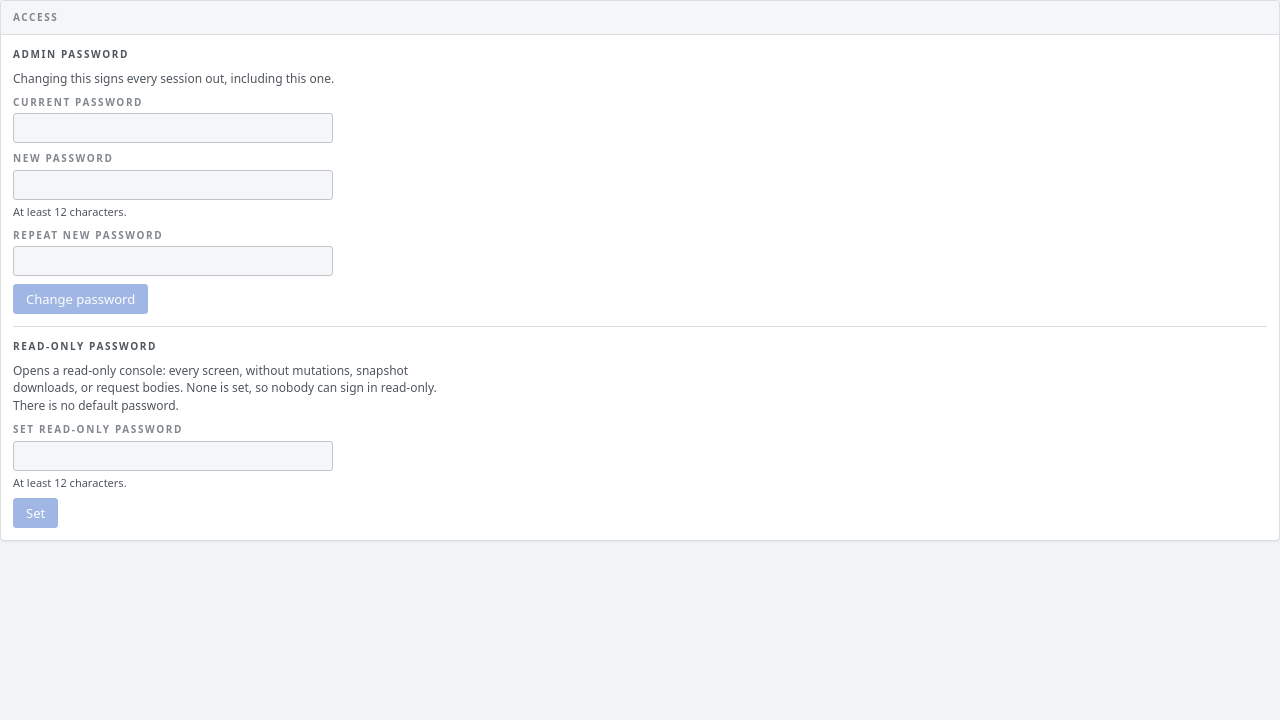
Scenario: admin password › a password too short to be accepted is refused before it is sent
Type "hunter2hunter2" into the password field labelled "Current password".
click(173, 128); type("hunter2hunter2")  # box [13,113,333,143]
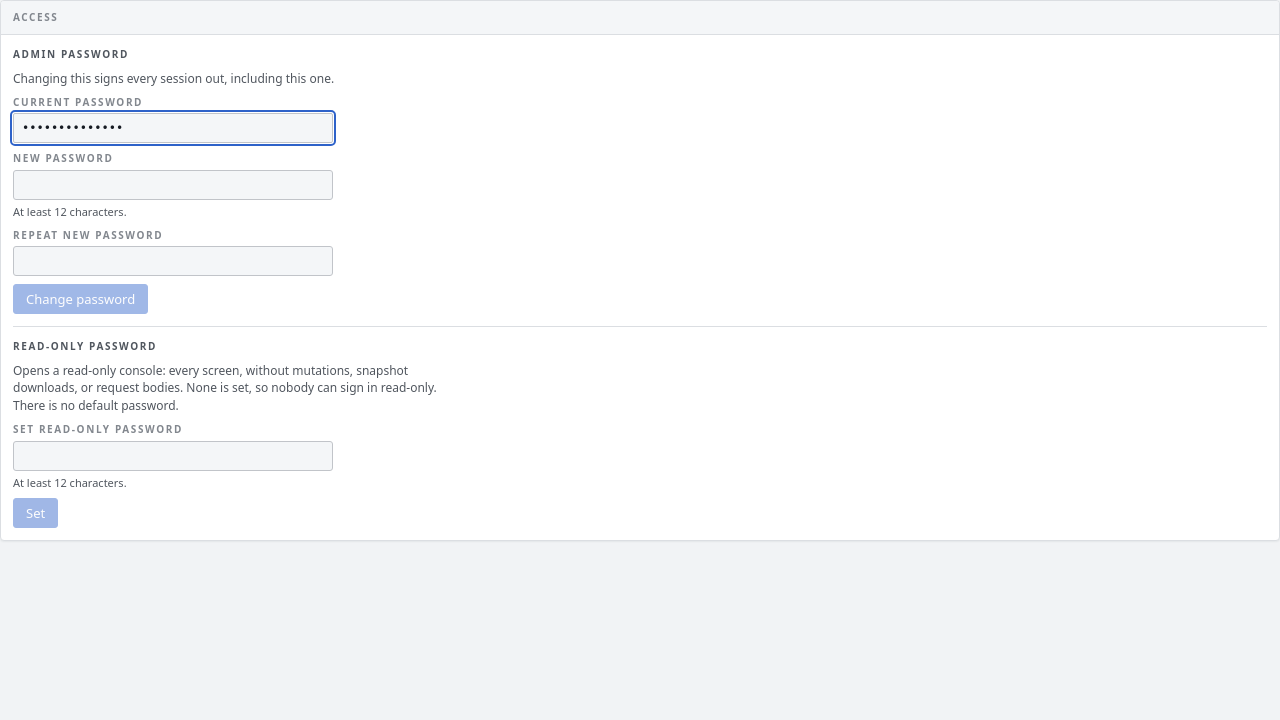
Type "short" into the password field labelled "New password".
click(173, 185); type("short")  # box [13,170,333,200]
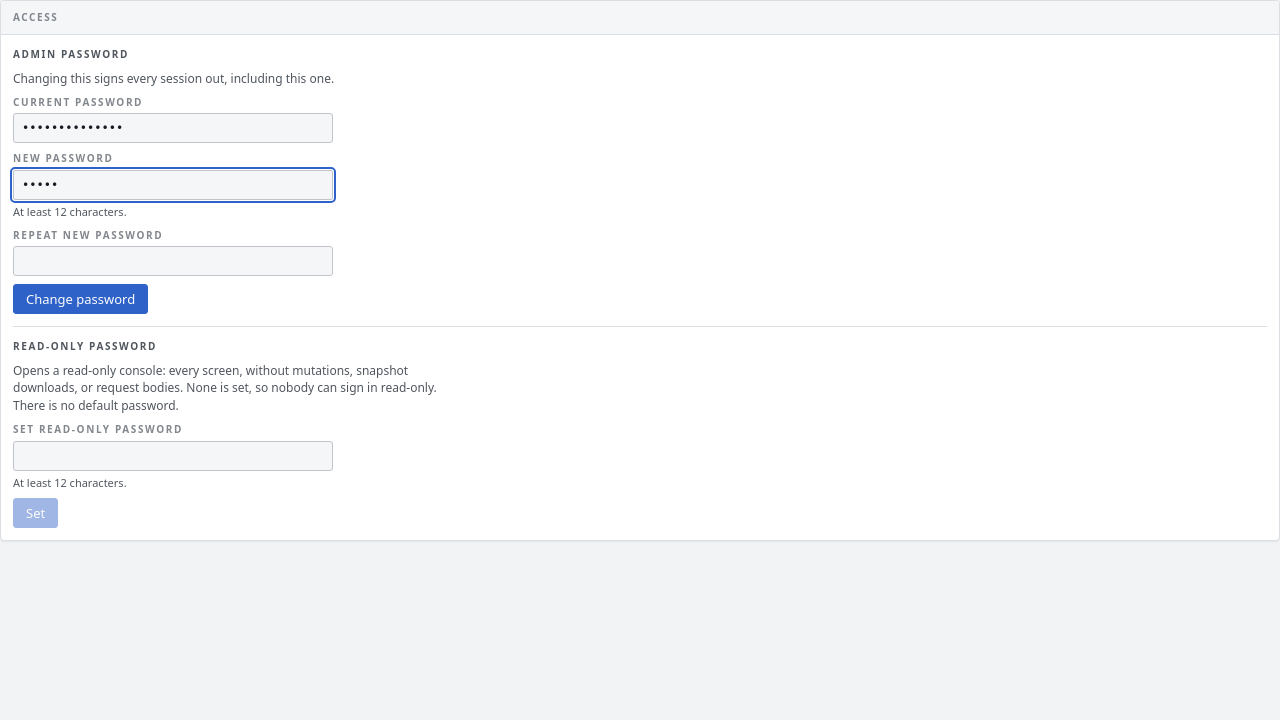
Type "short" into the password field labelled "Repeat new password".
click(173, 261); type("short")  # box [13,246,333,276]
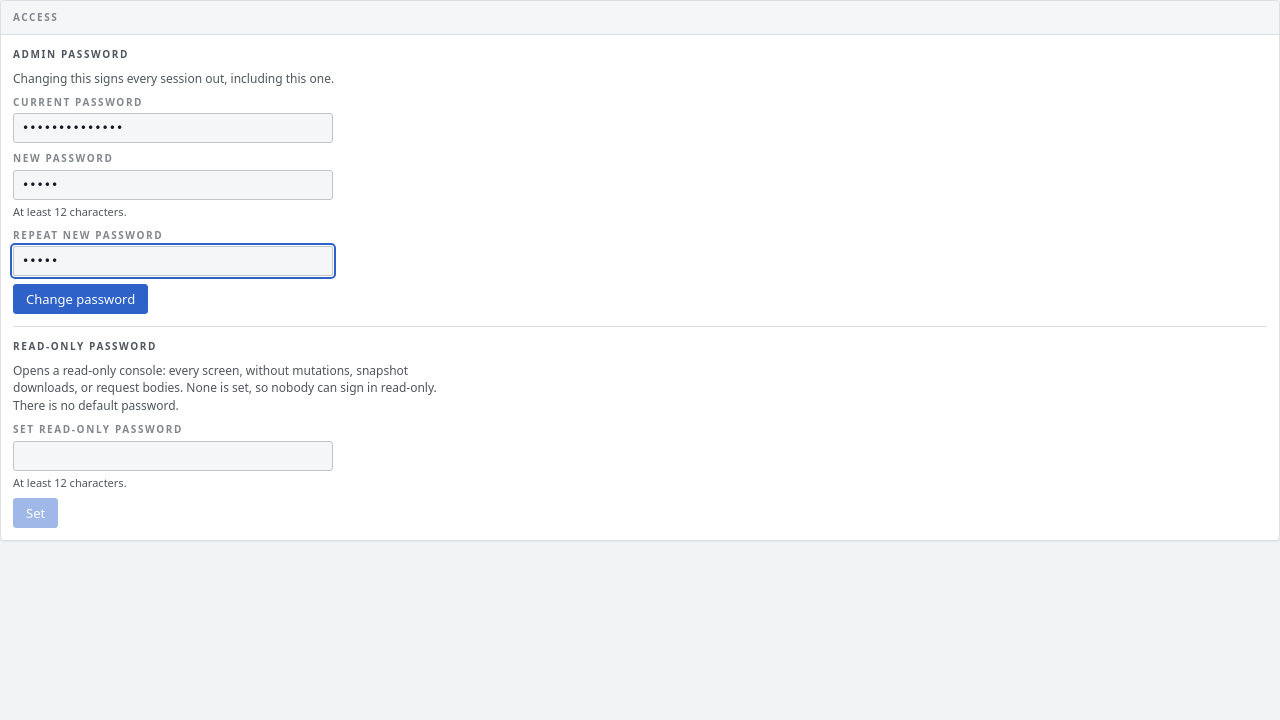
Click the button "Change password".
click(81, 299)  # box [13,284,148,314]
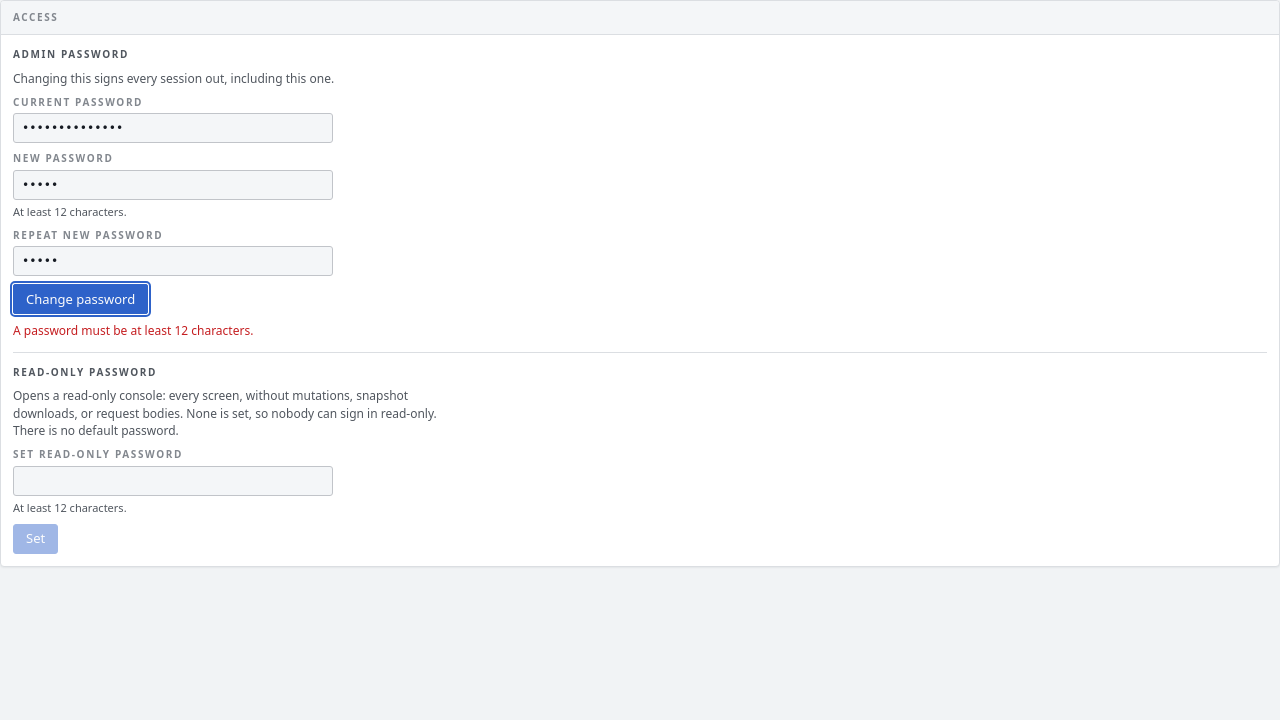
Check: the message shows "at least 12", box [13,322,253,339]
